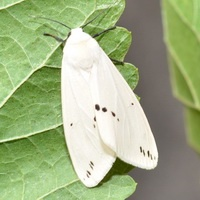insect: (61, 27, 157, 186)
